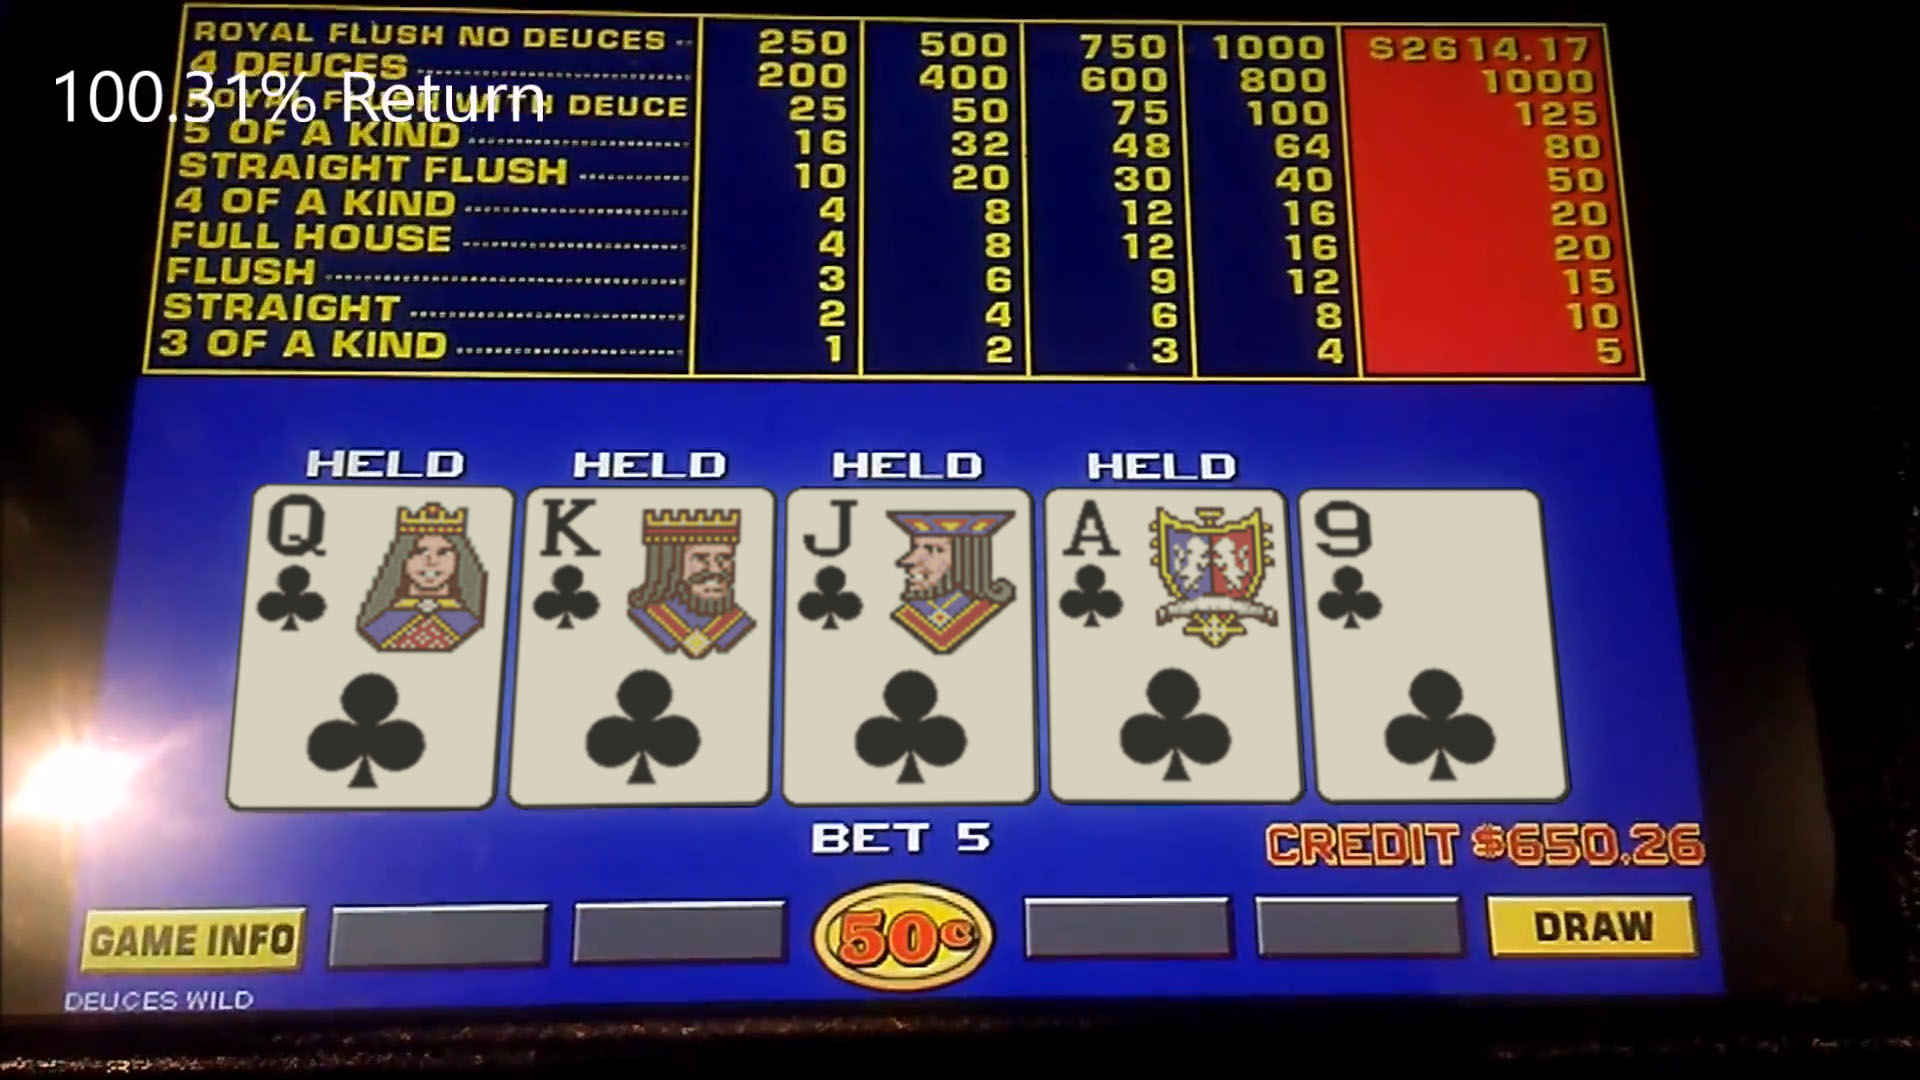C9: (1313, 492, 1549, 802)
CA: (1048, 492, 1290, 800)
CJ: (786, 489, 1035, 803)
CK: (517, 491, 764, 802)
CQ: (247, 487, 498, 808)
